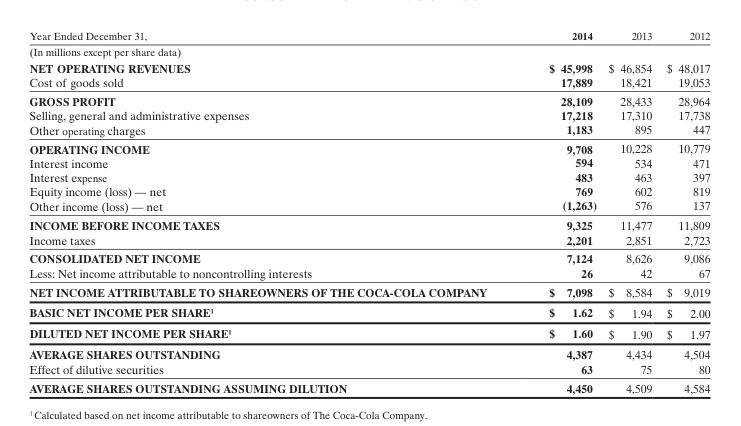table: (28, 29, 709, 394)
table column: (28, 29, 517, 394), (517, 29, 602, 394), (602, 29, 658, 394), (658, 29, 709, 394)
table column header: (28, 29, 709, 43)
table projected row header: (28, 43, 709, 58)
table row: (28, 322, 709, 343), (28, 282, 709, 302), (28, 302, 709, 322), (28, 197, 709, 215), (28, 343, 709, 361), (28, 74, 709, 91), (28, 91, 709, 108), (28, 138, 709, 155), (28, 215, 709, 232), (28, 248, 709, 265), (28, 265, 709, 282), (28, 361, 709, 378), (28, 58, 709, 74), (28, 122, 709, 138), (28, 232, 709, 248), (28, 378, 709, 394), (28, 43, 709, 58), (28, 29, 709, 43), (28, 108, 709, 122), (28, 155, 709, 169), (28, 169, 709, 183), (28, 183, 709, 197)
